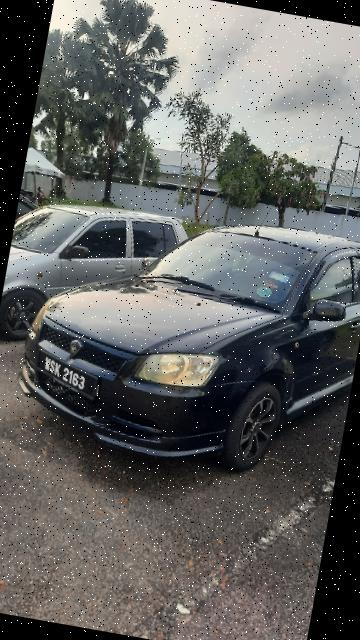License_Plate: (29, 353, 109, 406)
car: (2, 180, 360, 500), (1, 189, 204, 381)
